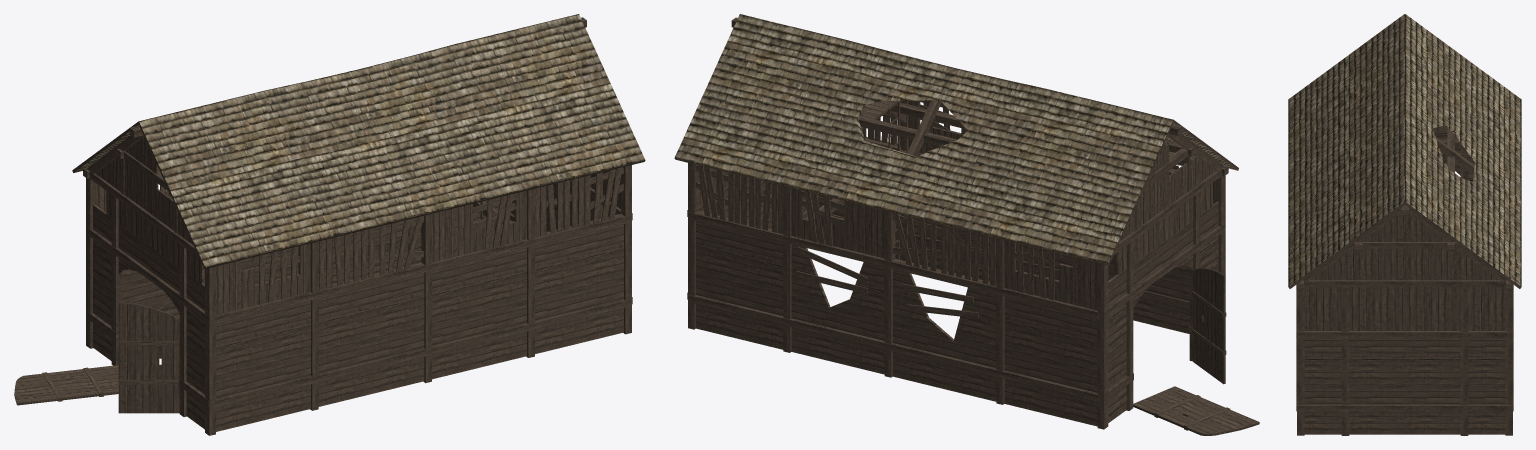
The model's file is f1_barn01.dae.
3 renders of one model, left to right at view 1: azimuth 30°, elevation 25°; view 2: azimuth 150°, elevation 25°; view 3: azimuth 270°, elevation 25°, orthographic. The views are drawn at different scales.
Parts seen in each view (by area): view 1: f1_barn01_Layer1; view 2: f1_barn01_Layer1; view 3: f1_barn01_Layer1.
Part boxes in pixels (x1,y1,x2,y2): f1_barn01_Layer1: [14, 14, 645, 435]; f1_barn01_Layer1: [674, 14, 1259, 435]; f1_barn01_Layer1: [1288, 14, 1521, 435].
Size of the model in its own units: 10.45 by 4.93 by 4.37.
